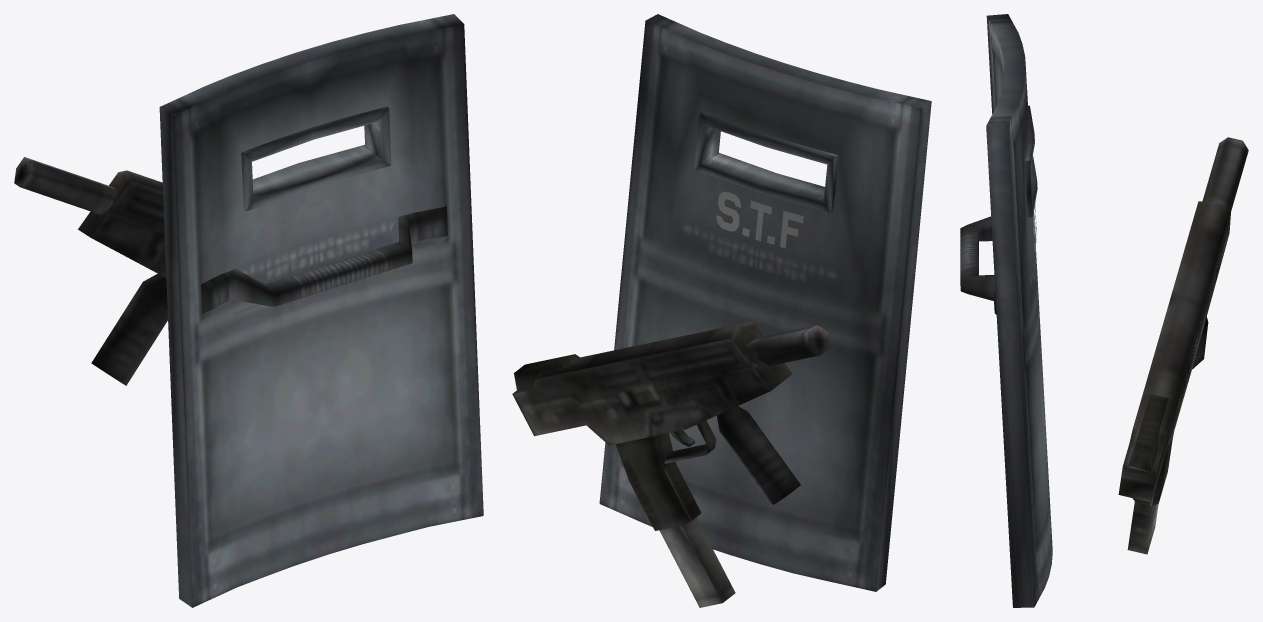
Rendered from cz.ico.obj.
3 views of the same model, side by side, from view 1: azimuth 30°, elevation 25°; view 2: azimuth 150°, elevation 25°; view 3: azimuth 270°, elevation 25° (orthographic). The views are drawn at different scales.
Bounding box in the file's own units: 0.7366 × 1 × 0.5351.
Materials: 1 (1 with a texture image).
